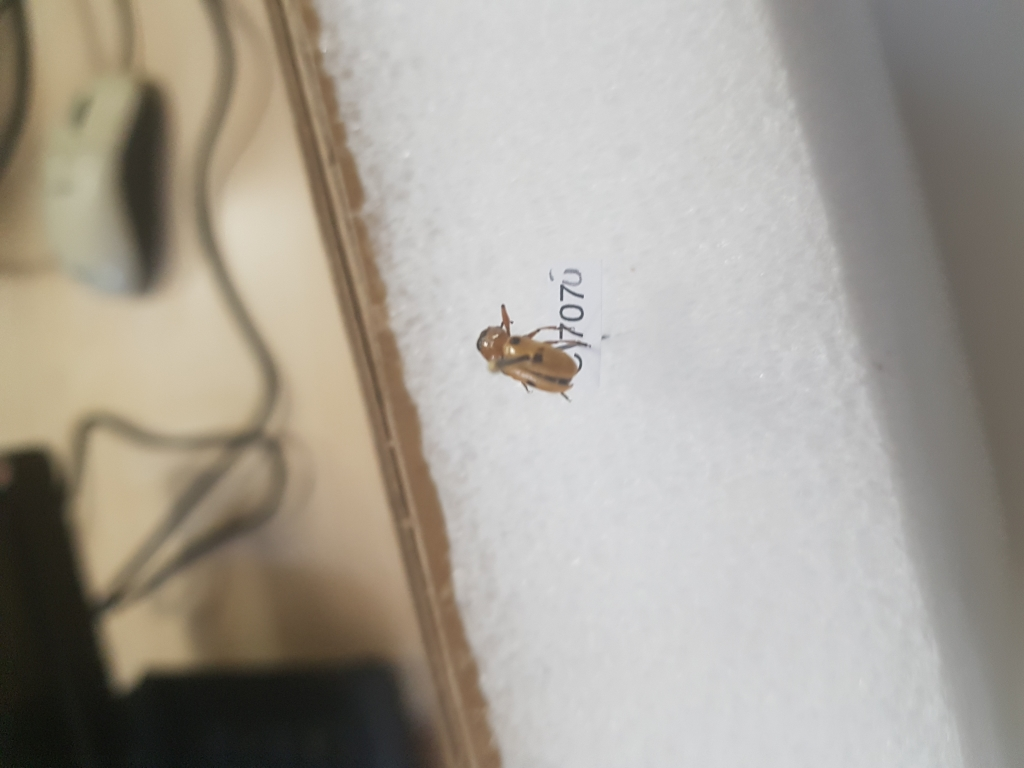Tituboea_macropus: (472, 301, 594, 396)
